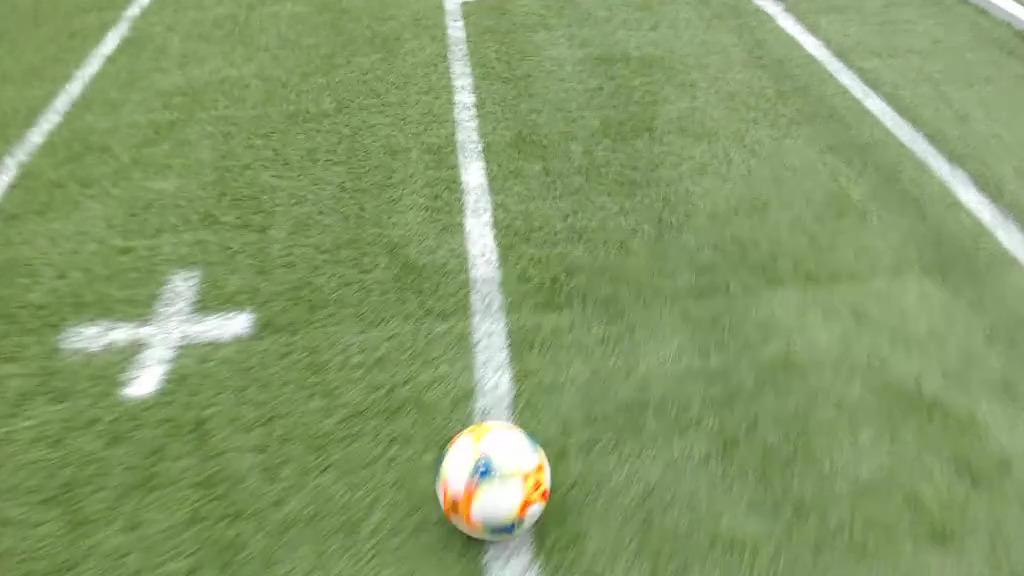ball: (437, 420, 550, 544)
